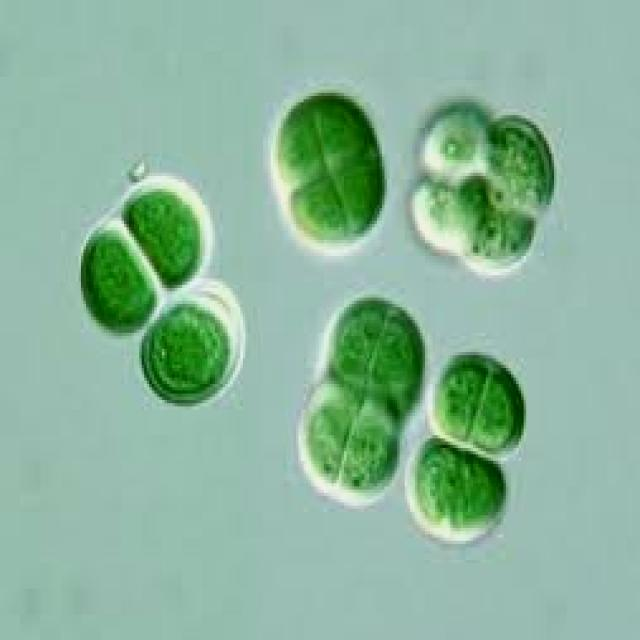Blue Green Algae: (408, 442, 508, 540), (78, 221, 157, 336), (124, 179, 207, 288), (144, 301, 228, 403), (453, 173, 536, 272), (488, 112, 557, 208), (336, 400, 399, 493), (422, 96, 491, 176), (410, 176, 478, 256), (286, 166, 346, 250), (370, 307, 422, 403), (433, 358, 488, 445), (314, 90, 374, 167), (466, 368, 521, 451), (329, 298, 382, 384), (271, 100, 326, 182), (334, 150, 387, 234), (306, 394, 352, 480)
